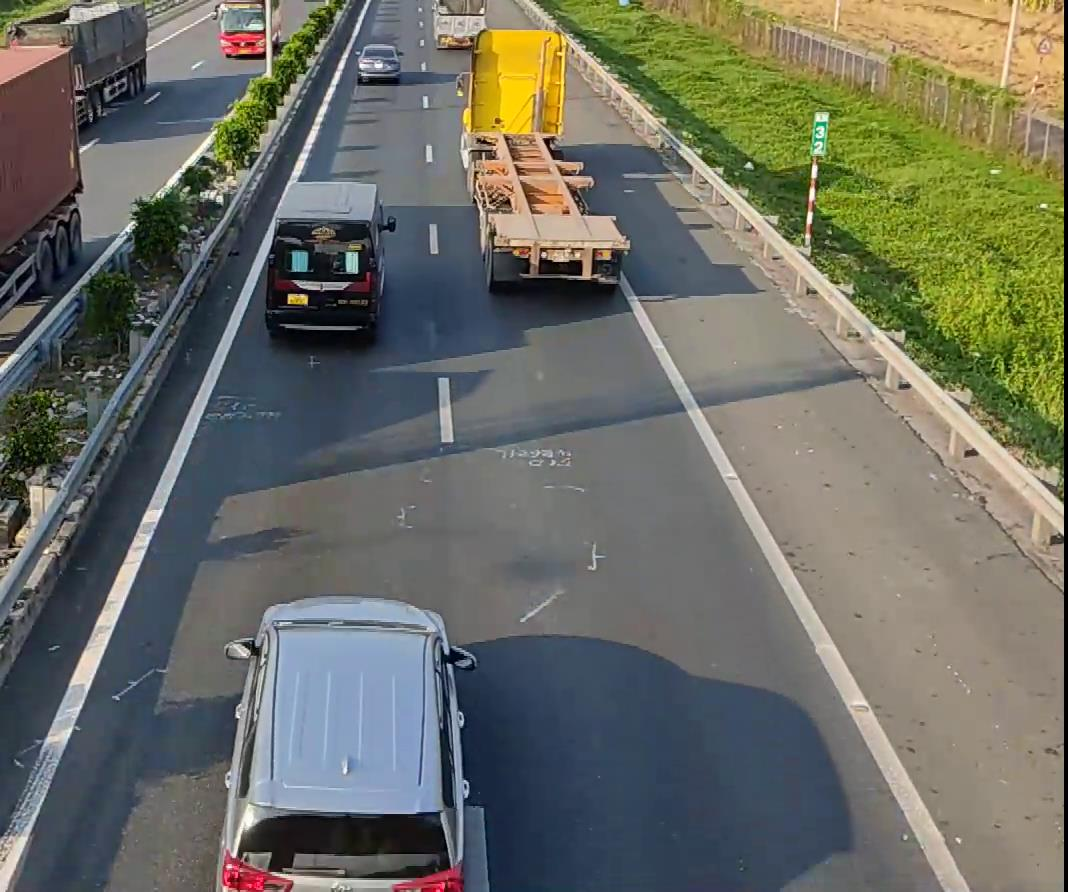car: (218, 591, 482, 890), (261, 179, 393, 340)
container: (460, 22, 629, 292), (0, 39, 100, 324)
